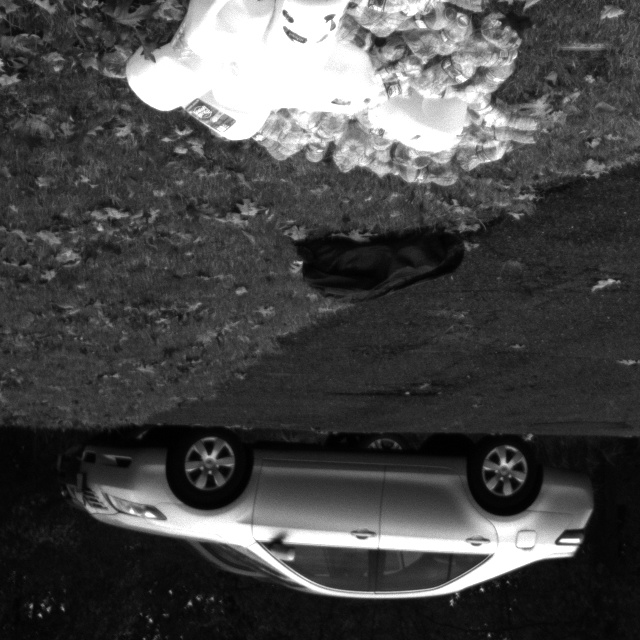bottle: (415, 13, 473, 51), (417, 56, 474, 90), (463, 86, 509, 127), (457, 136, 509, 170), (481, 11, 522, 53), (249, 132, 290, 165), (303, 132, 328, 163)
can: (168, 0, 277, 72), (272, 38, 372, 115), (369, 86, 463, 152), (125, 42, 208, 115), (178, 81, 272, 142), (263, 0, 350, 54)
